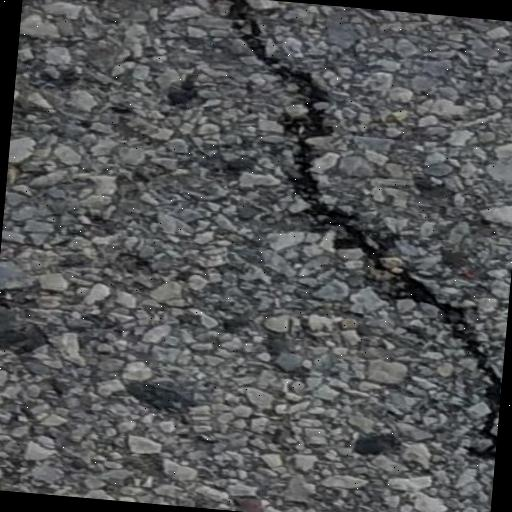spalling: (216, 1, 501, 466)
